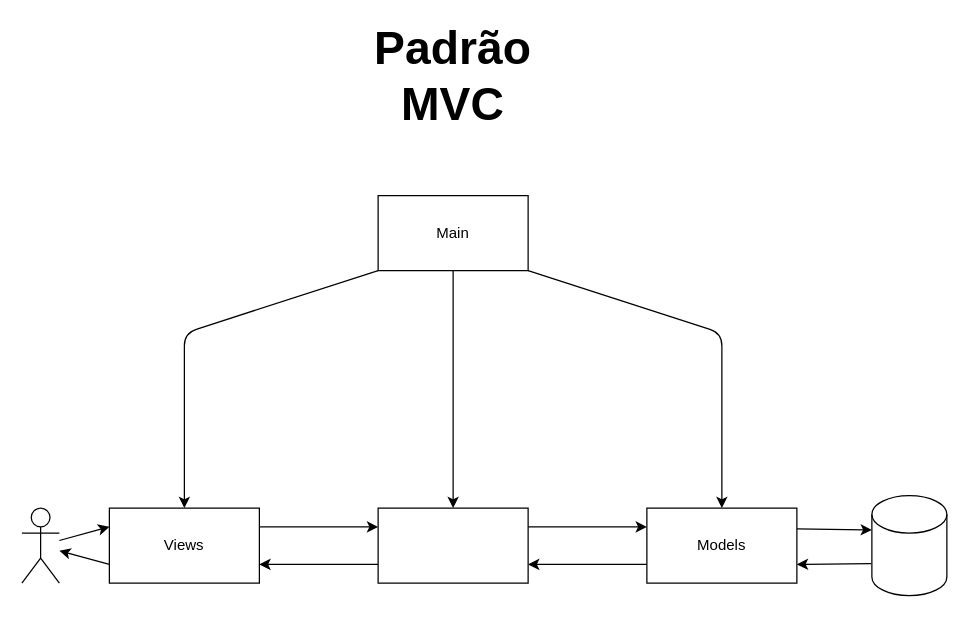
Image size: 969x631. Some labels were removed from this diagram. The shapes that lost their labels are listed below. From the top down, each one's centre as x and y in pixels, then its label:
At point 40,545: "Actor".
At point 452,545: "Controllers".
